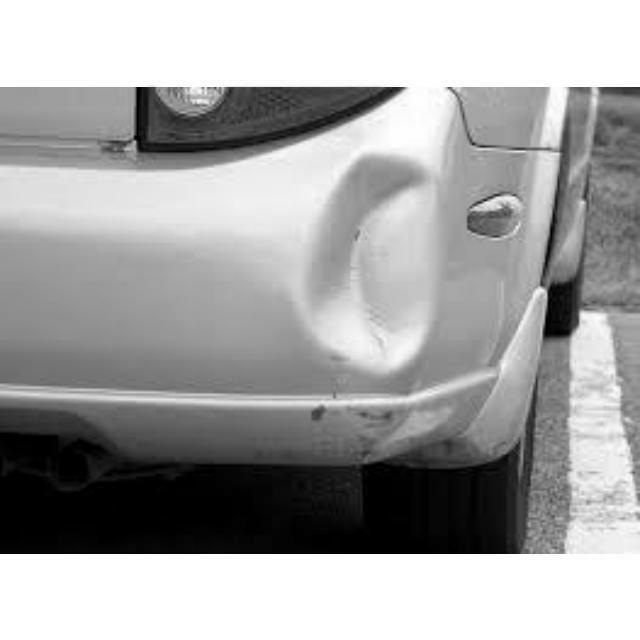rear-bumper-dent: (273, 148, 516, 471)
